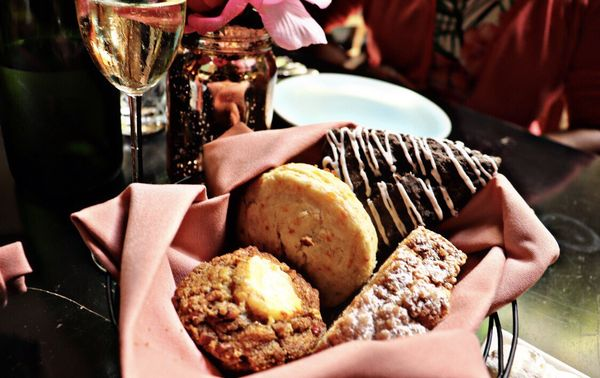pizza: (164, 30, 277, 184)
